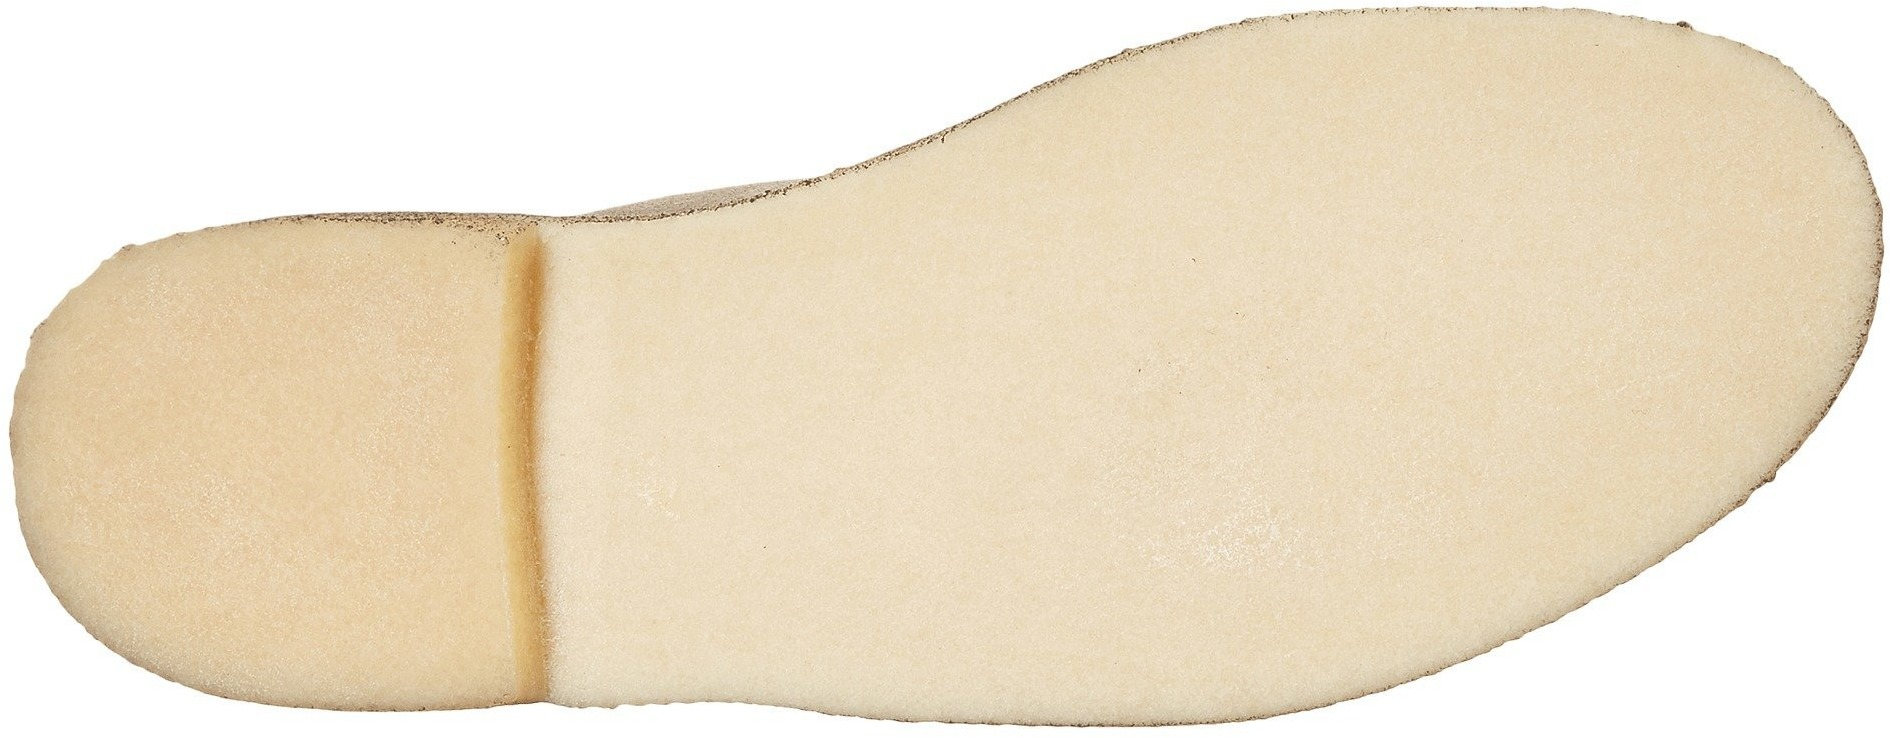other: (1120, 53, 1659, 556), (636, 218, 1131, 689), (105, 274, 486, 638)
